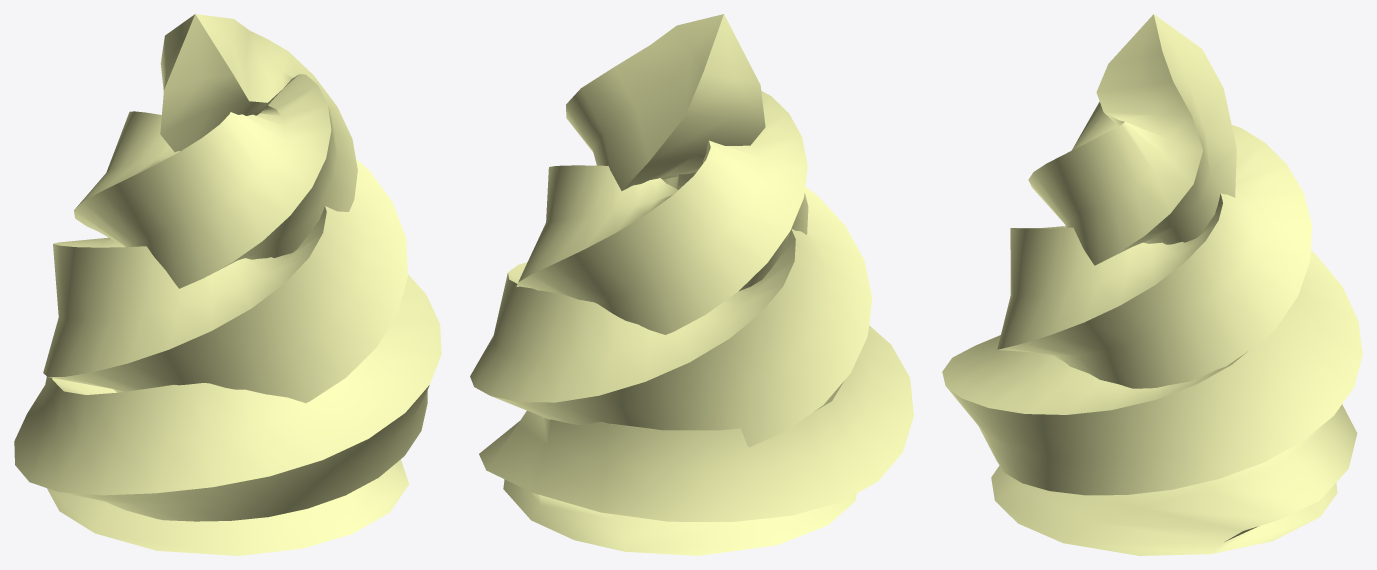
File: Ice Cream Hat I.fbx
3 views of the same model, side by side, from view 1: azimuth 30°, elevation 25°; view 2: azimuth 150°, elevation 25°; view 3: azimuth 270°, elevation 25° (orthographic). The views are drawn at different scales.
Visible parts, largest first — view 1: Ice Cream Hat I; view 2: Ice Cream Hat I; view 3: Ice Cream Hat I.
Boxes of the visible parts, x1,y1,x2,y2 form: Ice Cream Hat I: (14, 14, 441, 555); Ice Cream Hat I: (470, 14, 913, 555); Ice Cream Hat I: (942, 14, 1362, 555).
Bounding box in the file's own units: 0.494 × 0.5946 × 0.4981.
